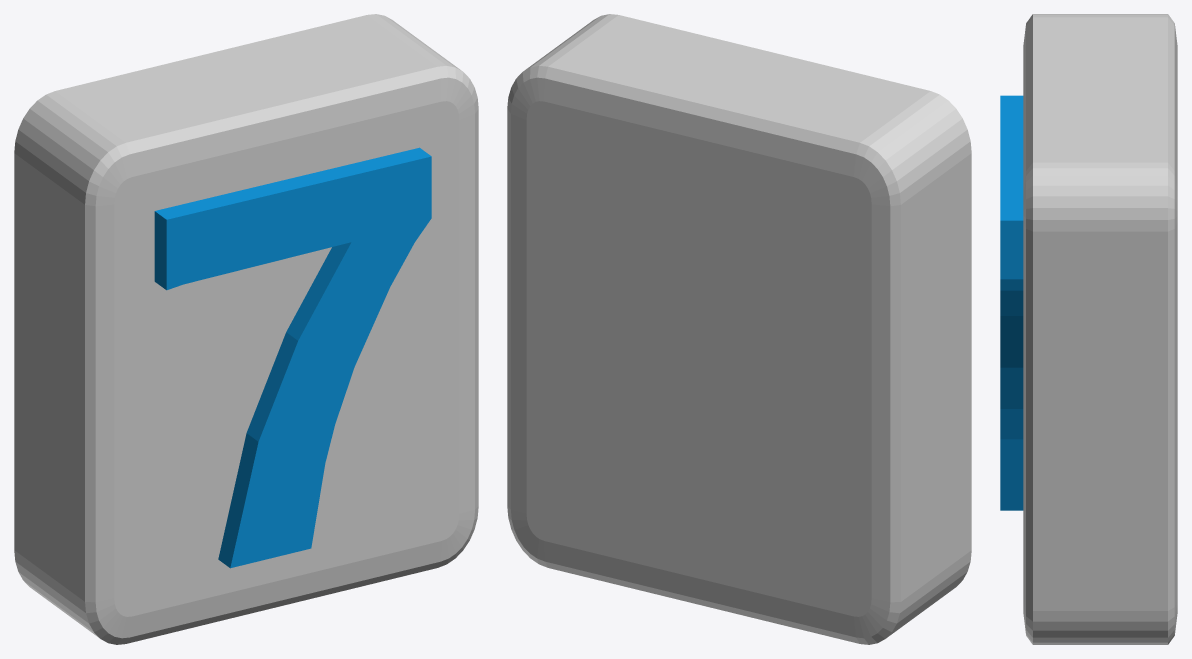
3 views of the same model, side by side, from view 1: azimuth 30°, elevation 25°; view 2: azimuth 150°, elevation 25°; view 3: azimuth 270°, elevation 25° (orthographic). The views are drawn at different scales.
Visible parts, largest first — view 1: Box7; view 2: Box7; view 3: Box7.
Boxes of the visible parts, x1,y1,x2,y2 form: Box7: (14, 14, 478, 644); Box7: (507, 14, 971, 644); Box7: (1000, 14, 1177, 644).
Bounding box in the file's own units: 56.15 × 68.31 × 22.91.
